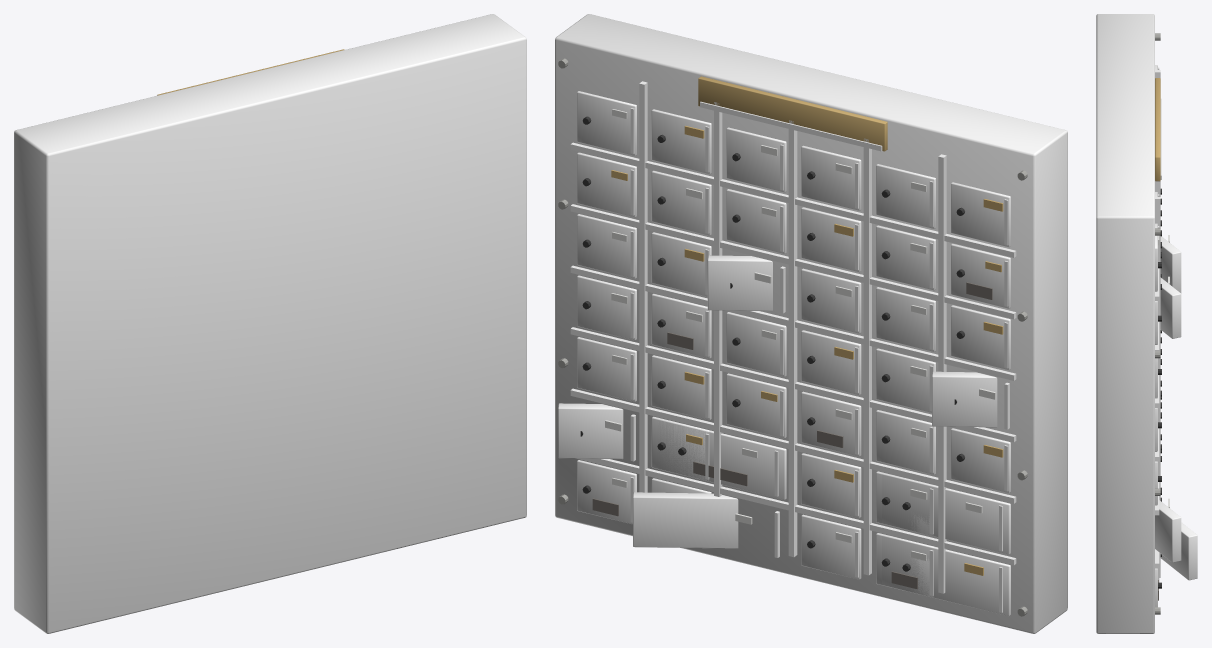
The model's file is hm_bank_deposit_boxes_v2.glb.
The picture shows the model from 3 angles, left to right: view 1: azimuth 30°, elevation 25°; view 2: azimuth 150°, elevation 25°; view 3: azimuth 270°, elevation 25°; orthographic projection. The views are drawn at different scales.
Parts seen in each view (by area): view 1: DB_Frame; view 2: DB_Frame, DB_Door_3, DB_Door_6, DB_Door_0, DB_Plaque, DB_Door_9, DB_Div_3, DB_Div_2, DB_Div_5, DB_Rail_2, DB_Rail_6, DB_Rail_5 (+42 smaller); view 3: DB_Frame, DB_Door_11, DB_Door_27, DB_Door_3, DB_Door_18, DB_Div_5, DB_Plaque, DB_Door_41.
Boxes of the visible parts, x1,y1,x2,y2 form: DB_Frame: (14, 14, 526, 633); DB_Frame: (555, 14, 1067, 633); DB_Door_3: (633, 492, 738, 548); DB_Door_6: (882, 472, 1010, 554); DB_Door_0: (882, 535, 1010, 615); DB_Plaque: (698, 76, 887, 151); DB_Door_9: (657, 419, 786, 499); DB_Div_3: (788, 120, 797, 557); DB_Div_2: (863, 138, 871, 575); DB_Div_5: (639, 81, 647, 492); DB_Rail_2: (570, 388, 1016, 503); DB_Rail_6: (570, 142, 1016, 257); DB_Rail_5: (570, 204, 1016, 319); DB_Frame: (1096, 14, 1154, 633); DB_Door_11: (1155, 500, 1181, 562); DB_Door_27: (1160, 277, 1181, 338); DB_Door_3: (1160, 522, 1197, 580); DB_Door_18: (1160, 236, 1181, 293); DB_Div_5: (1155, 197, 1160, 577); DB_Plaque: (1155, 78, 1160, 181); DB_Door_41: (1155, 223, 1157, 291).
Size of the model in its own units: 1.8 by 1.72 by 0.3791.
